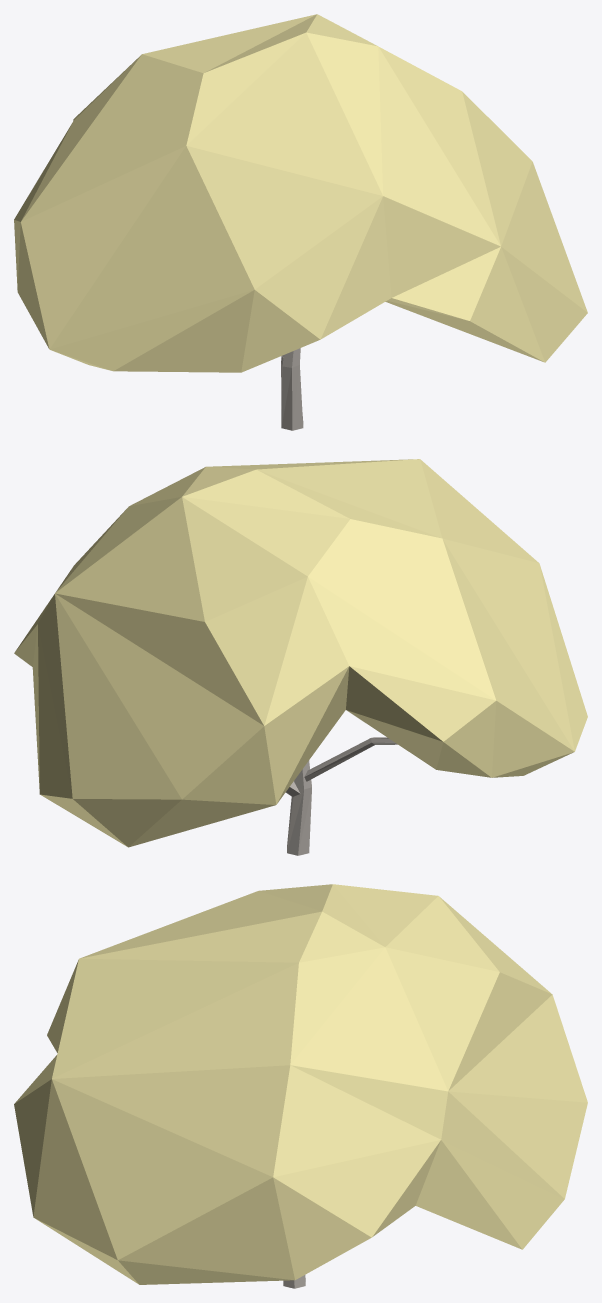
Rendered from ParkinsoniaAculeata.glb.
3 renders of one model, top to bottom at view 1: azimuth 30°, elevation 25°; view 2: azimuth 150°, elevation 25°; view 3: azimuth 270°, elevation 25°, orthographic. The views are drawn at different scales.
Parts seen in each view (by area): view 1: Crown, Trunk; view 2: Crown, Trunk; view 3: Crown.
Boxes of the visible parts, x1,y1,x2,y2 form: Crown: (14, 14, 587, 372); Trunk: (281, 348, 303, 430); Crown: (14, 459, 587, 847); Trunk: (285, 737, 397, 855); Crown: (14, 884, 587, 1284).
Bounding box in the file's own units: 11.54 × 8.23 × 11.1.
